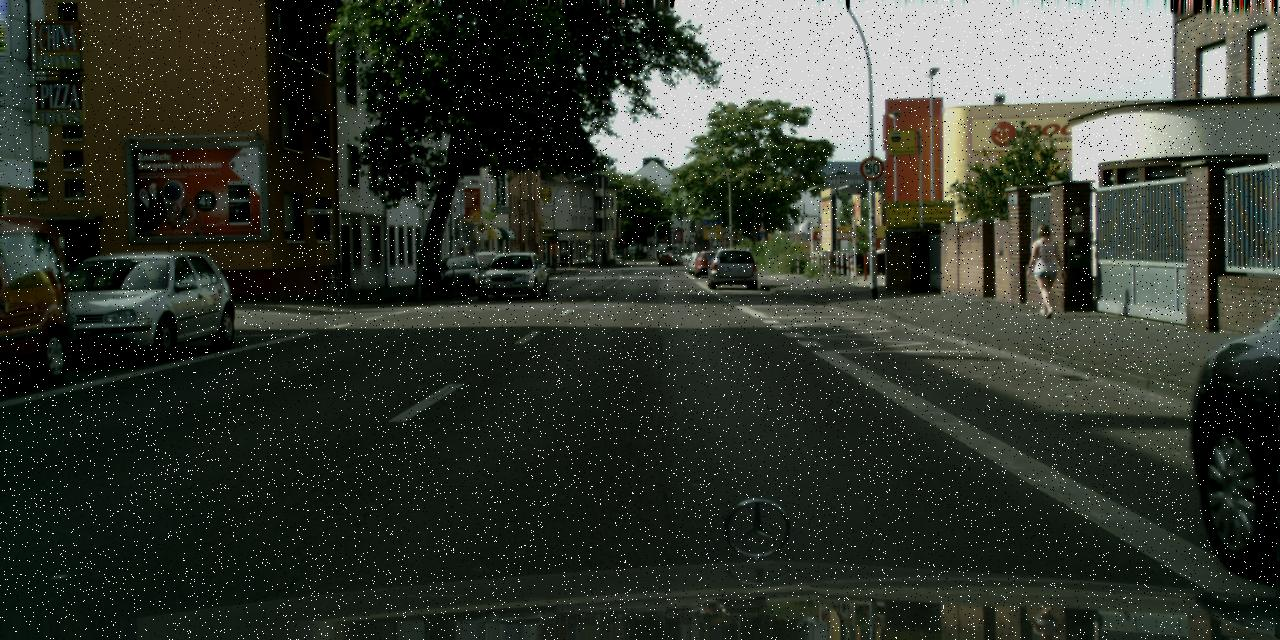ped: (1026, 222, 1064, 316)
